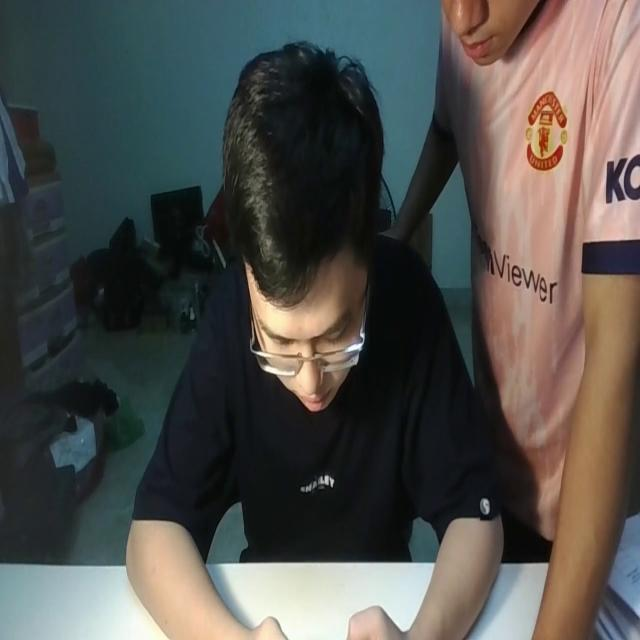extra_person: (381, 0, 640, 640)
student: (121, 37, 505, 640)
